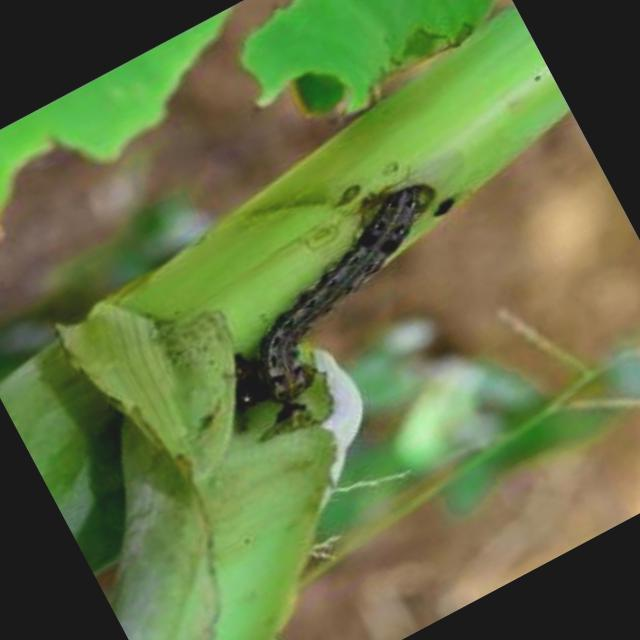Tobacco cutworm: (128, 118, 544, 498)
